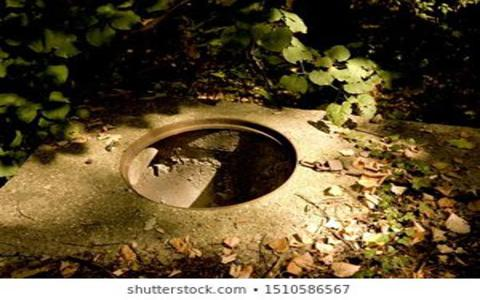open manhole: (117, 119, 315, 222)
